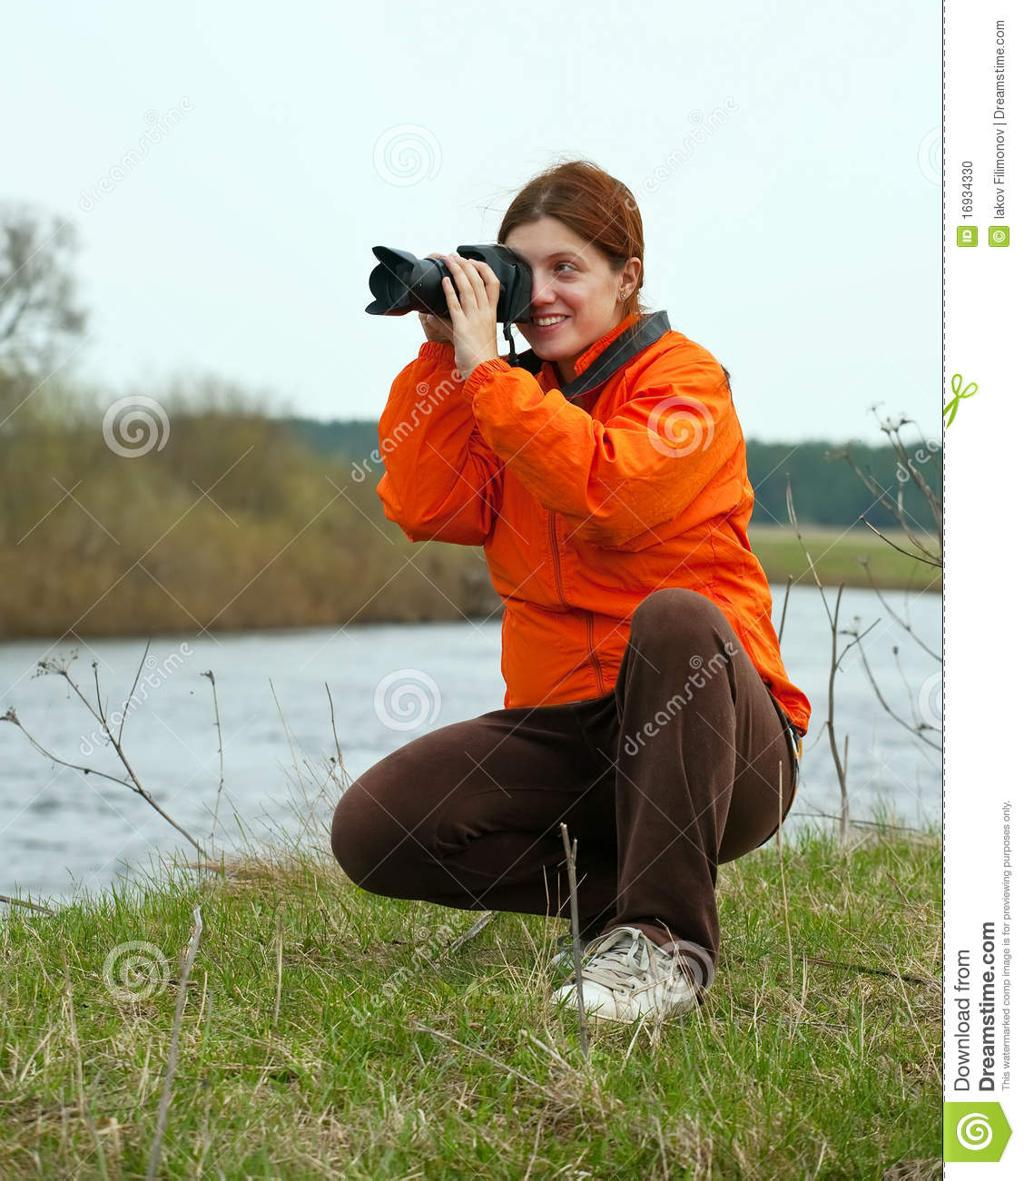face: (491, 212, 604, 357)
